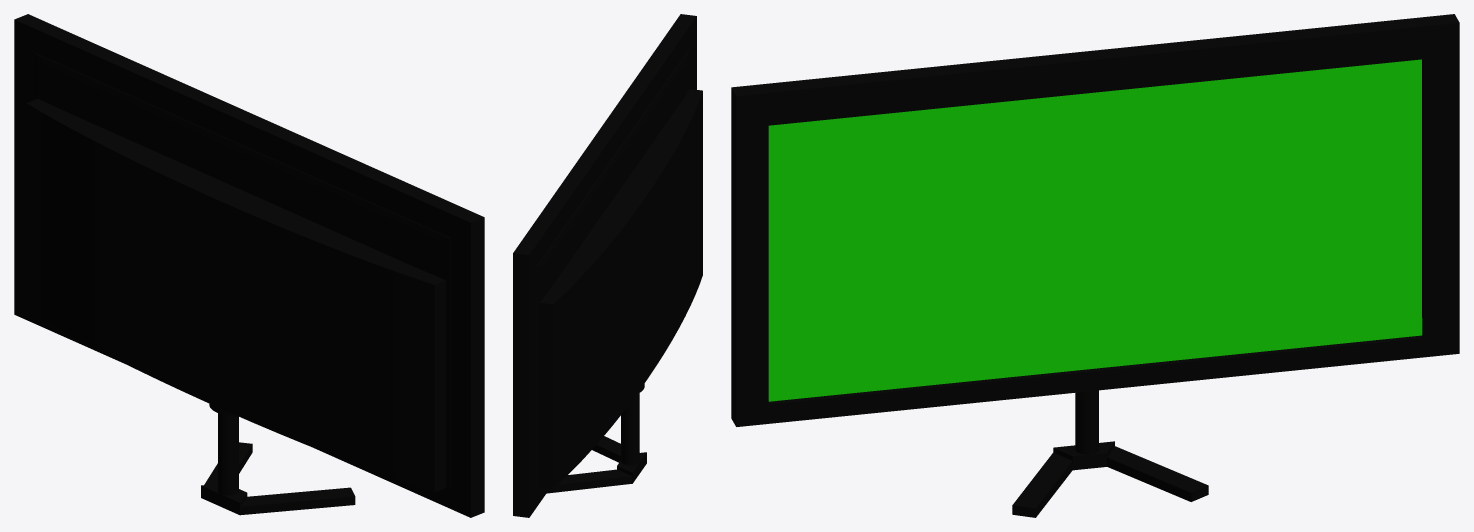
Rendered from low_poly_modern_pc_monitor_-_desktop_screen.glb.
3 renders of one model, left to right at view 1: azimuth 30°, elevation 25°; view 2: azimuth 150°, elevation 25°; view 3: azimuth 270°, elevation 25°, orthographic. The views are drawn at different scales.
Parts seen in each view (by area): view 1: Mesin, Bingkai, Layar, Cube.001, dudukan, Cube.004; view 2: Mesin, Bingkai, Layar, Cube.001, dudukan, Cube.004; view 3: Tampilan, Bingkai, Cube.001, dudukan, Cube.004.
Boxes of the visible parts, box(x1,y1,x2,y2) form: Mesin: box(26, 98, 446, 492); Bingkai: box(14, 14, 484, 517); Layar: box(34, 52, 451, 491); Cube.001: box(204, 442, 355, 515); dudukan: box(218, 413, 238, 495); Cube.004: box(201, 483, 247, 514); Mesin: box(539, 89, 702, 488); Bingkai: box(513, 14, 696, 517); Layar: box(536, 47, 690, 491); Cube.001: box(546, 436, 632, 493); dudukan: box(621, 393, 639, 465); Cube.004: box(617, 452, 646, 483); Tampilan: box(768, 59, 1422, 401); Bingkai: box(731, 14, 1459, 426); Cube.001: box(1012, 446, 1208, 517); dudukan: box(1075, 390, 1098, 454); Cube.004: box(1053, 441, 1114, 470).
Bounding box in the file's own units: 0.5481 × 1.25 × 1.96.
